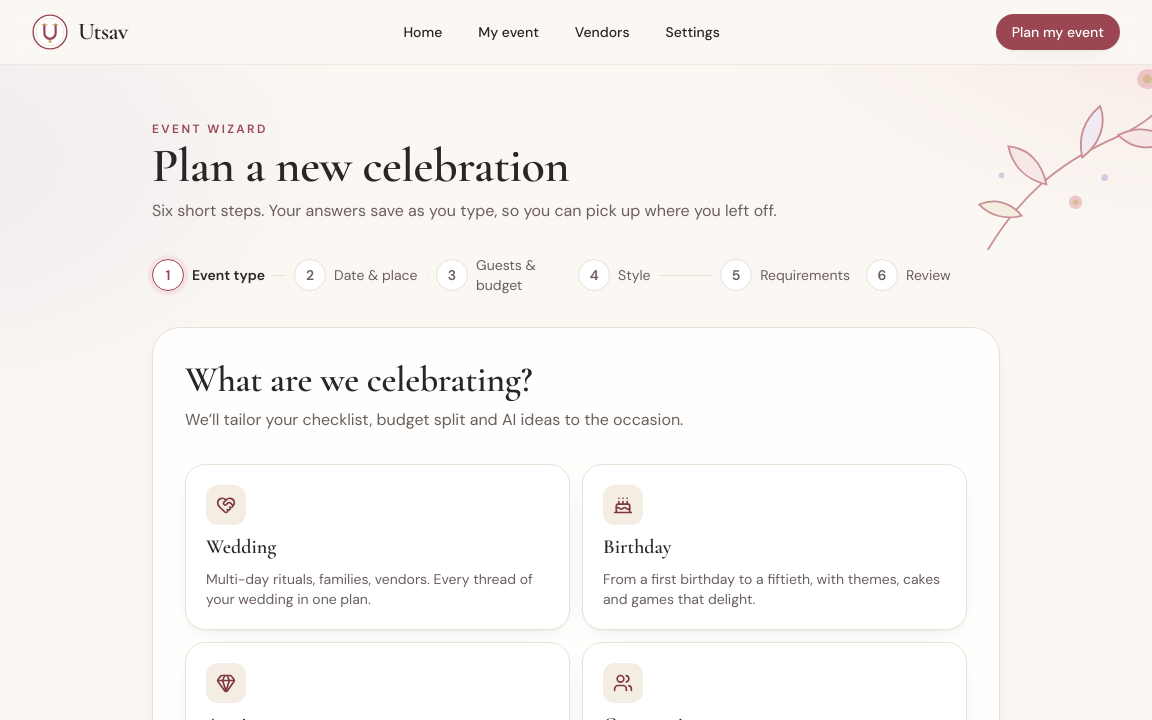
Test: PlanWizardPage › moves focus to each new step heading and keeps answers when going back
The image size is (1152, 720).
Step 1. Click the radio button labelled "Wedding" → (226, 505), box top-left (185, 464), bottom-right (570, 630)
(page scrolled)
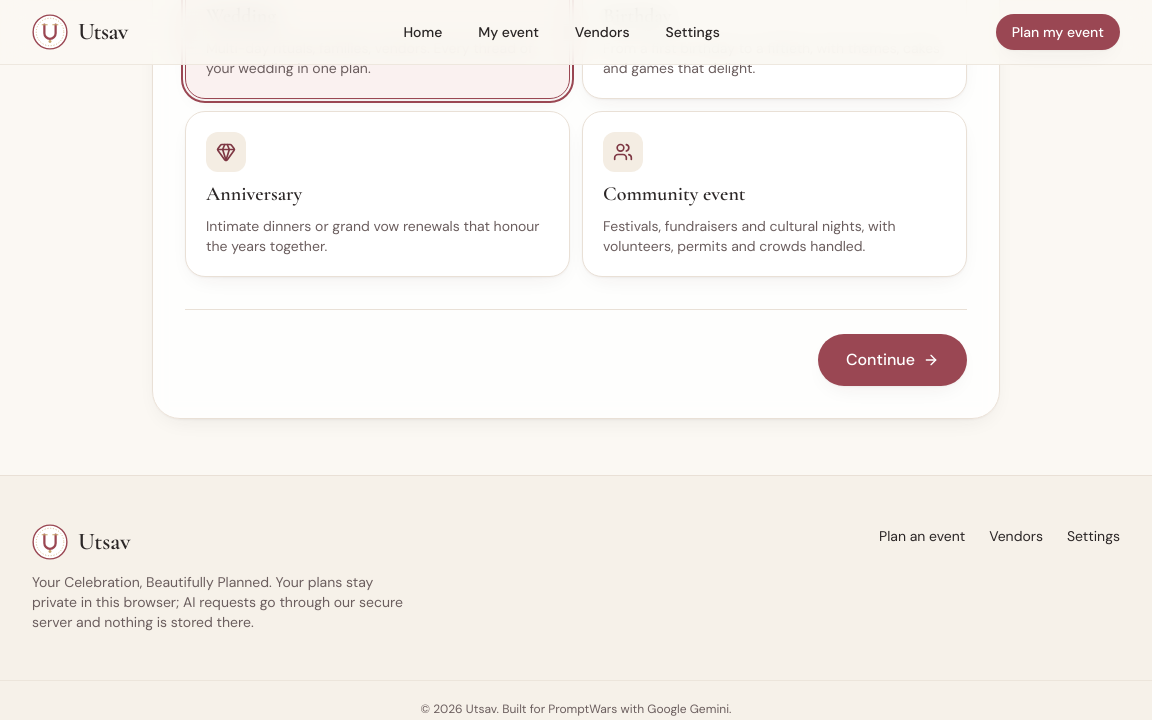
Step 2. Click the button "Continue" → (892, 360), box top-left (818, 334), bottom-right (967, 386)
(page scrolled)
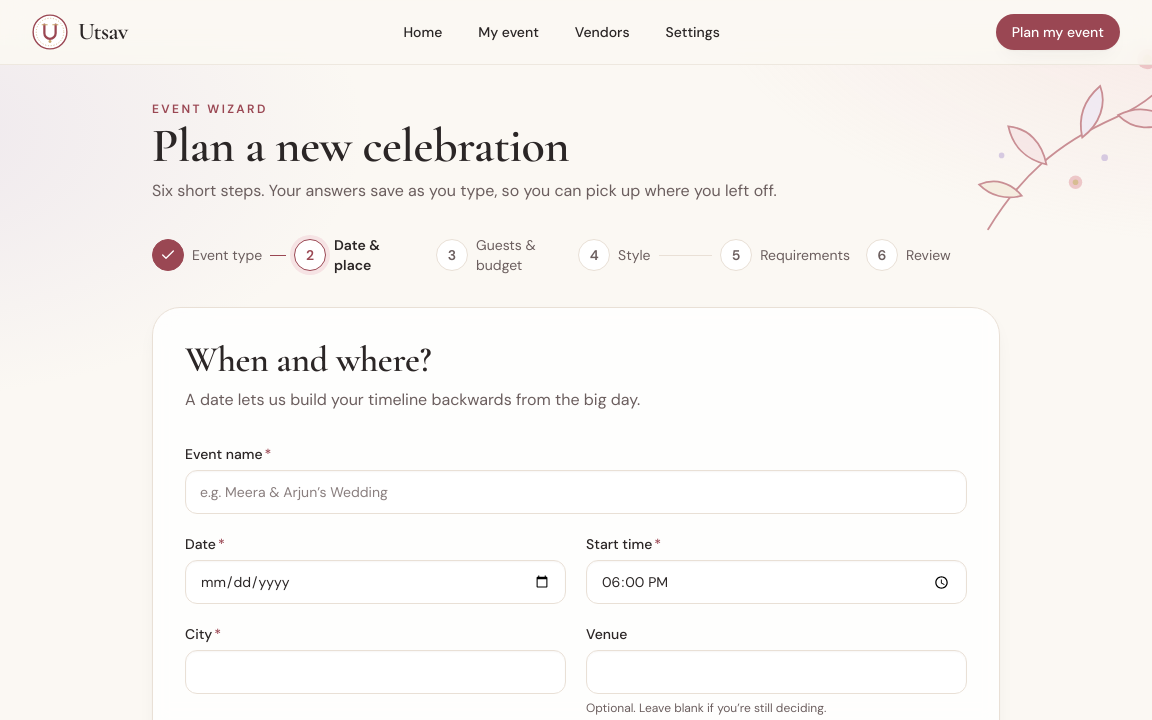
Step 3. Type "M&A" into the field labelled "Event name*" → (576, 492), box top-left (185, 470), bottom-right (967, 514)
Step 4. Type "2030-02-14" into the date field labelled "Date*" → (376, 582), box top-left (185, 560), bottom-right (566, 604)
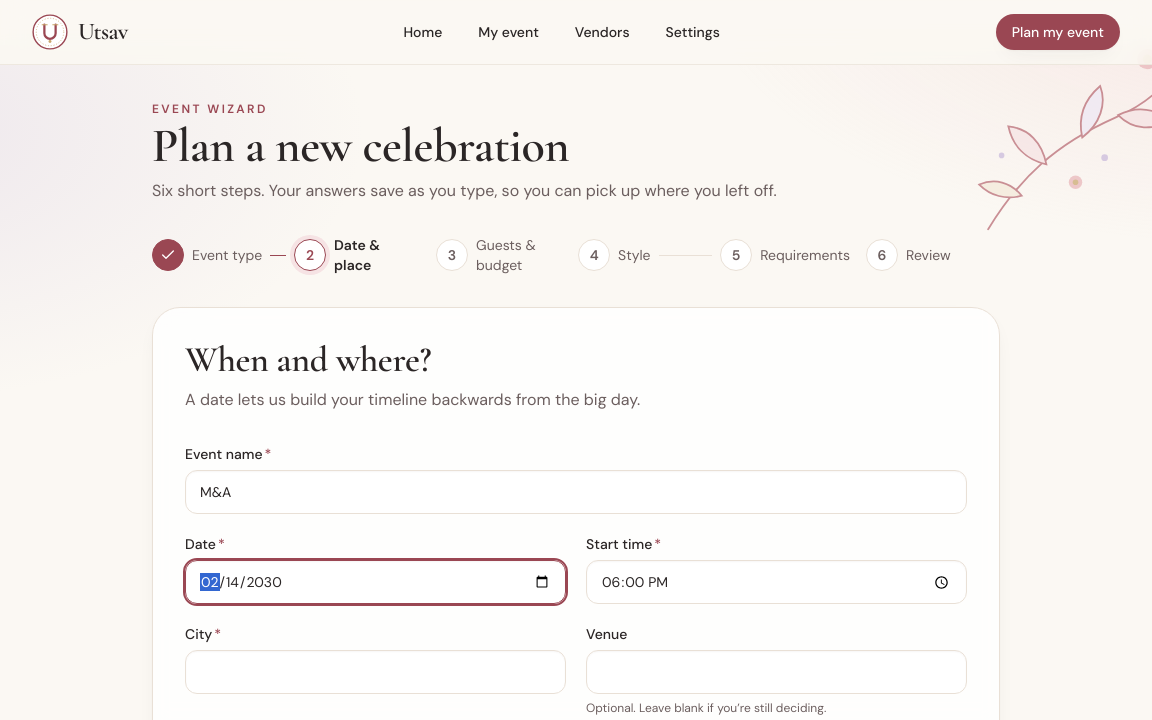
Step 5. Type "Pune" into the field labelled "City*" → (376, 672), box top-left (185, 650), bottom-right (566, 694)
(page scrolled)
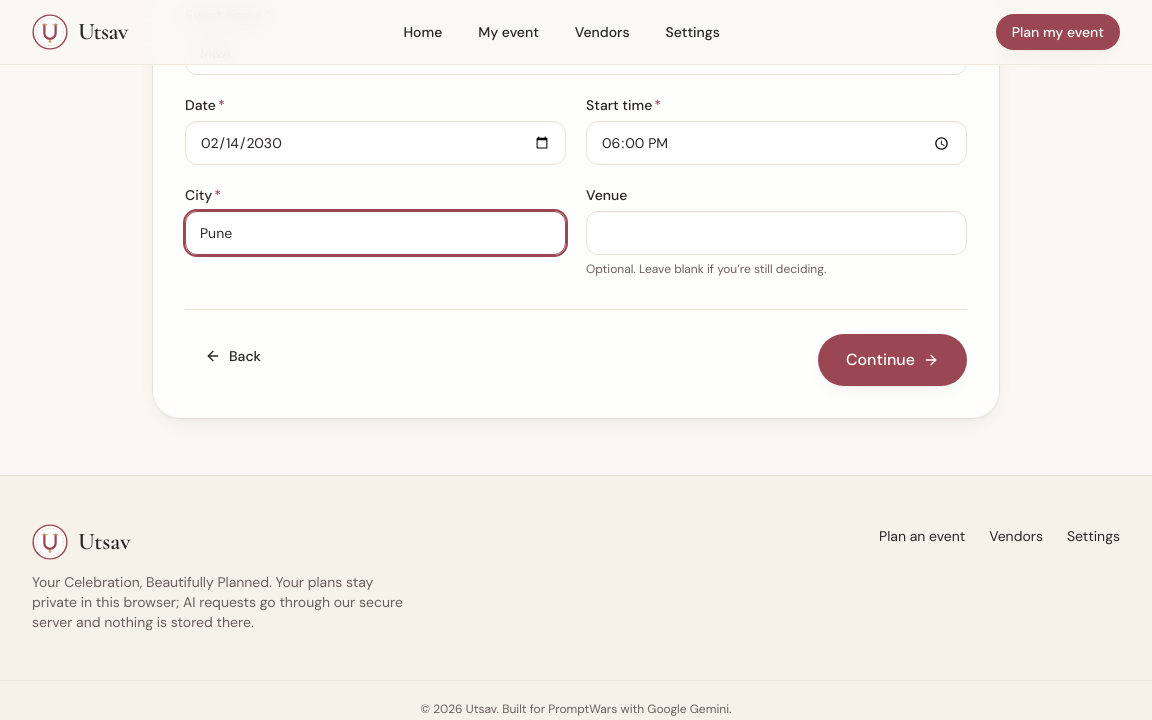
Step 6. Click the button "Continue" → (892, 360), box top-left (818, 334), bottom-right (967, 386)
(page scrolled)
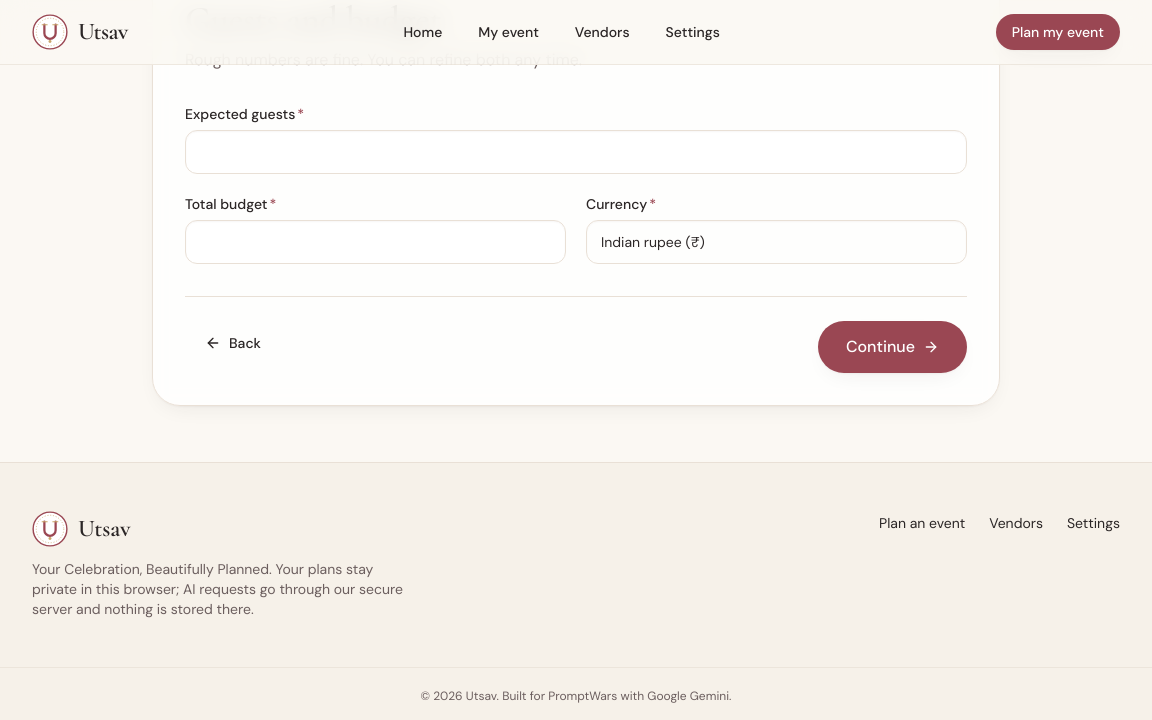
Step 7. Click the button "Back" → (233, 343), box top-left (185, 321), bottom-right (281, 365)
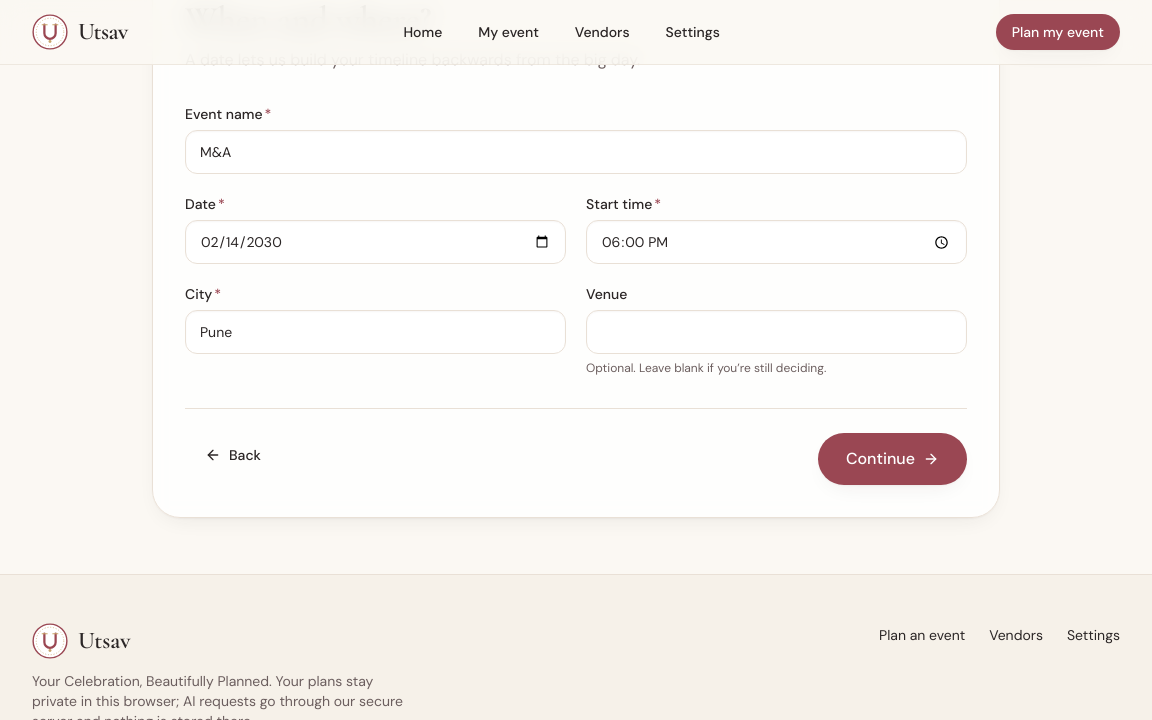
Now the field labelled "Event name*" holds "M&A", box top-left (185, 130), bottom-right (967, 174)
Now the field labelled "City*" holds "Pune", box top-left (185, 310), bottom-right (566, 354)
